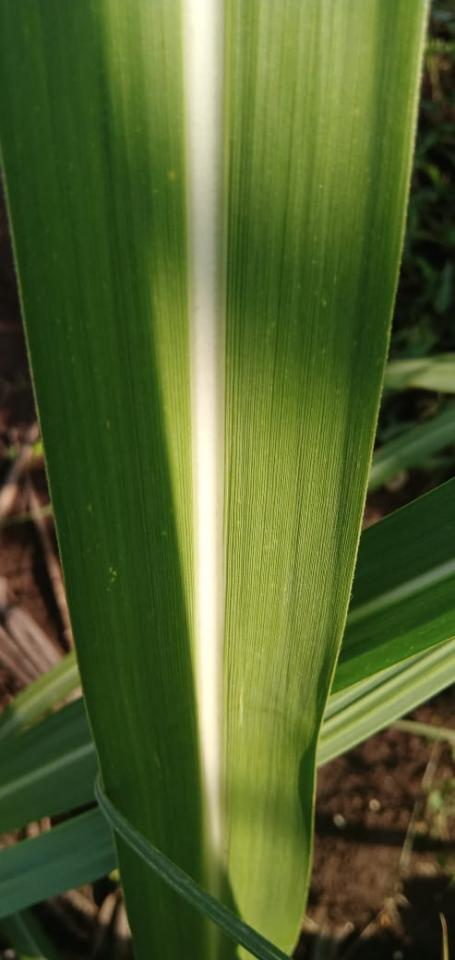Healthy: (0, 0, 425, 954), (331, 475, 454, 696), (116, 834, 257, 959), (0, 699, 96, 831)
